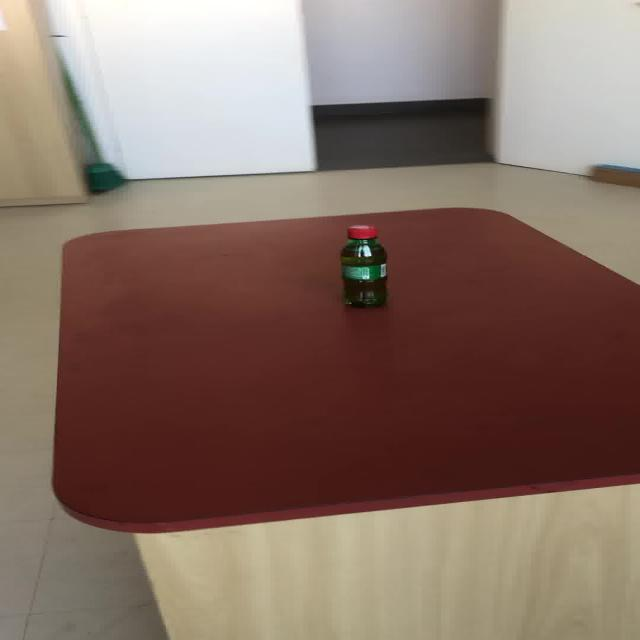guarana: (338, 223, 388, 308)
